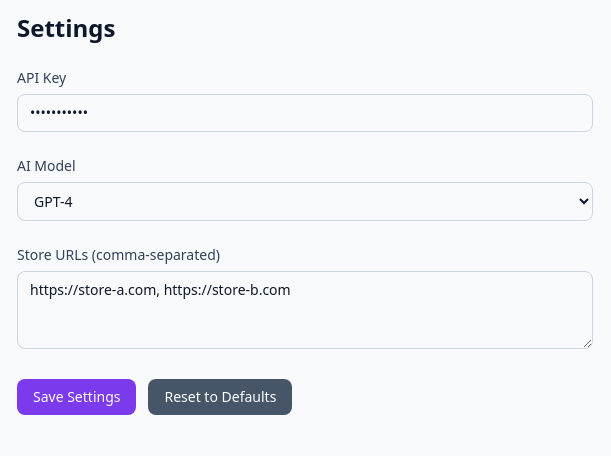
Scenario: SettingsForm › rejects store URLs that do not start with http(s)://
Replace the text in the text box labelled "Store URLs (comma-separated)" with "store-a.com, ftp://x". click: (305, 310)
box: [17, 271, 593, 349]
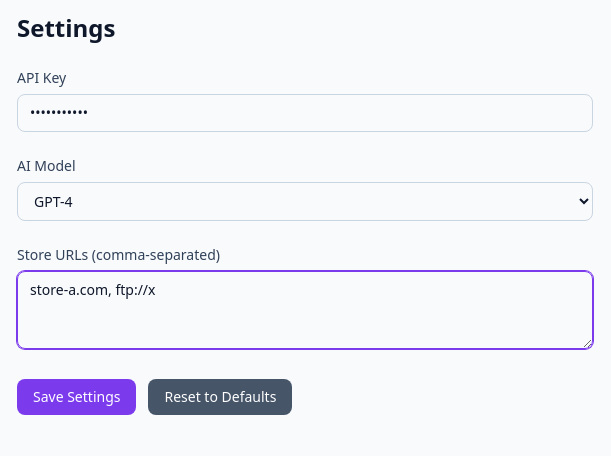
Click the button "Save Settings". click: (77, 397)
box: [17, 379, 136, 415]
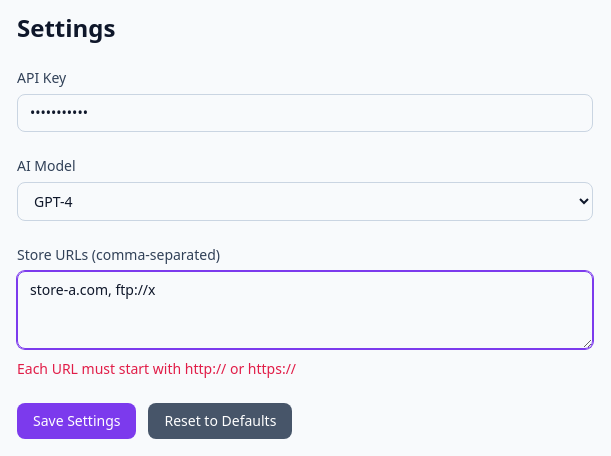
expect the message shows "Each URL must start": met, box [17, 359, 296, 378]
